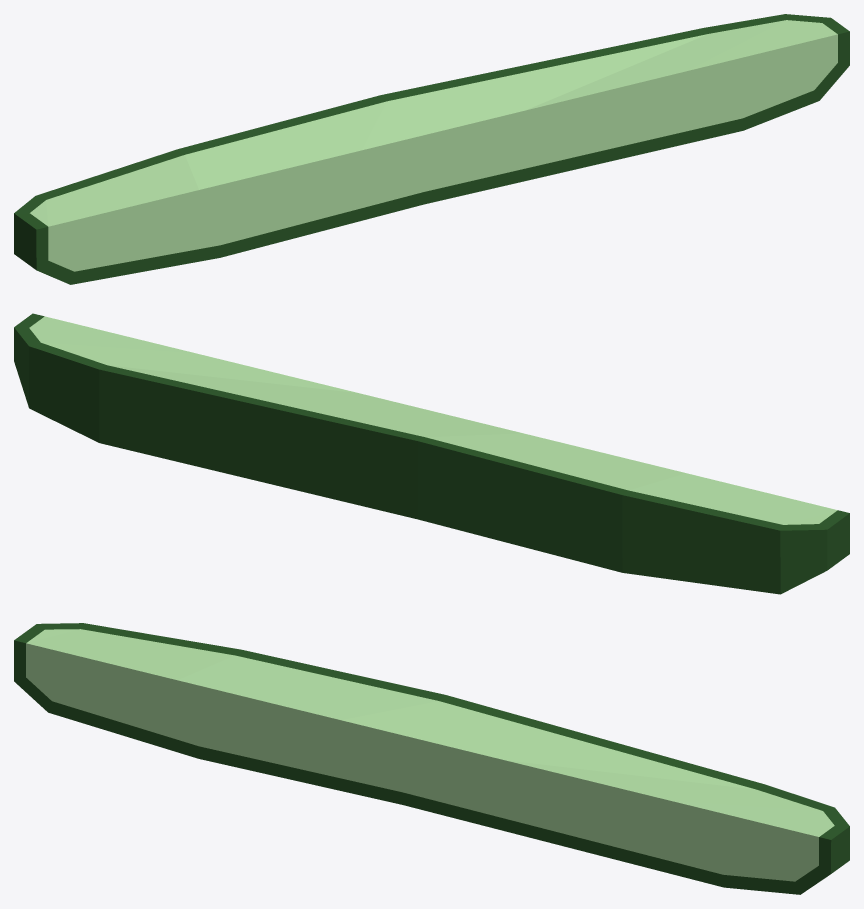
File: cucumberStrip.fbx
3 renders of one model, top to bottom at view 1: azimuth 30°, elevation 25°; view 2: azimuth 150°, elevation 25°; view 3: azimuth 330°, elevation 25°, orthographic.
Parts seen in each view (by area): view 1: cucumberStrip; view 2: cucumberStrip; view 3: cucumberStrip.
Boxes of the visible parts, bbox=[...] form: cucumberStrip: bbox=[14, 14, 849, 284]; cucumberStrip: bbox=[14, 313, 849, 594]; cucumberStrip: bbox=[14, 623, 849, 894].
Size of the model in its own units: 32.59 by 3.14 by 3.01.
1 material, 1 textured.
